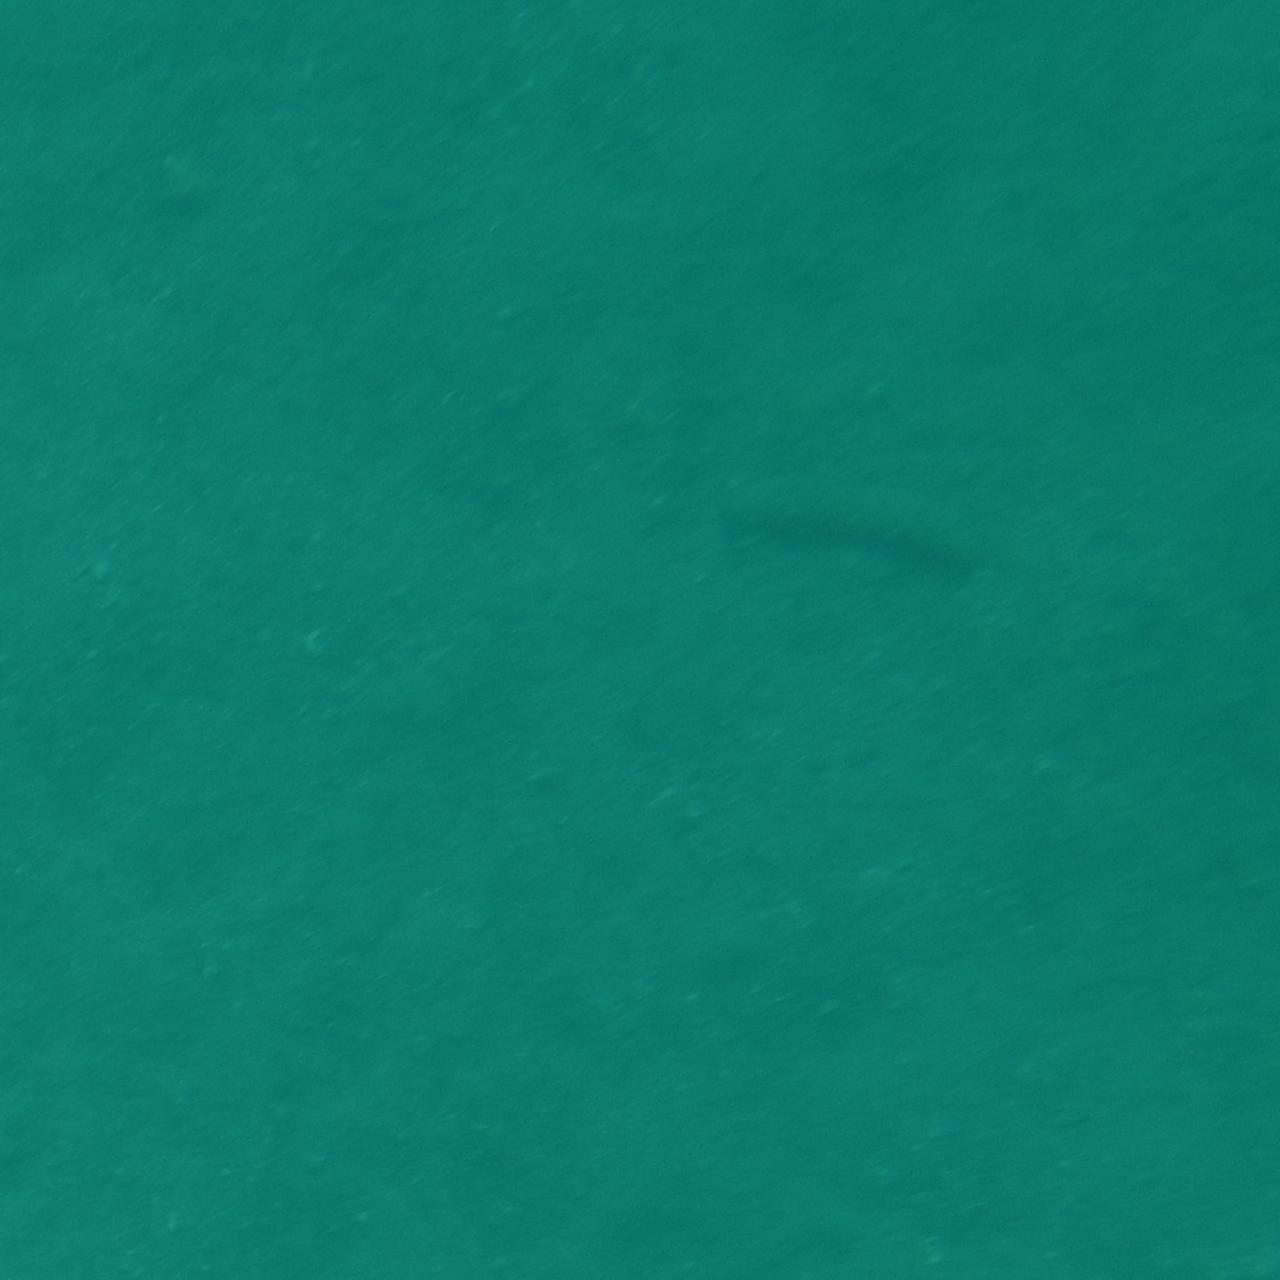Holothuria tubulosa: (680, 486, 1020, 564)
